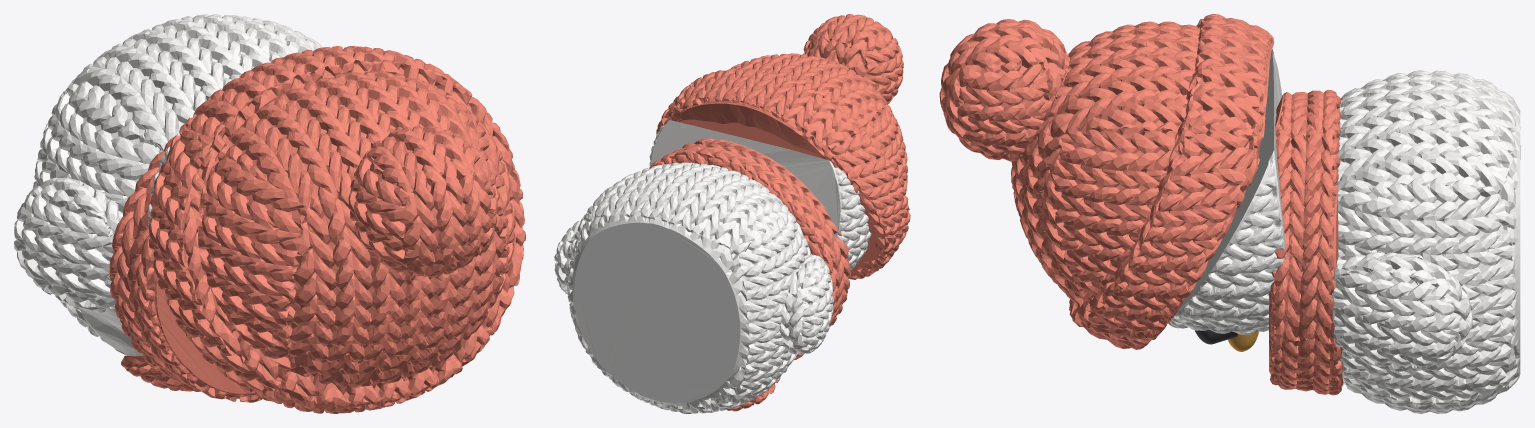
The model's file is snowman.glb.
The picture shows the model from 3 angles, left to right: view 1: azimuth 30°, elevation 25°; view 2: azimuth 150°, elevation 25°; view 3: azimuth 270°, elevation 25°; orthographic projection. The views are drawn at different scales.
Parts seen in each view (by area): view 1: accent_hat, body, accent_scarf; view 2: body, accent_hat, accent_scarf, head; view 3: accent_hat, body, accent_scarf, head.
Part boxes in pixels (x1,y1,x2,y2): accent_hat: (148, 46, 525, 413); body: (14, 14, 322, 355); accent_scarf: (109, 135, 262, 402); body: (554, 162, 833, 413); accent_hat: (655, 14, 910, 279); accent_scarf: (649, 138, 850, 411); head: (649, 120, 871, 269); accent_hat: (939, 14, 1274, 349); body: (1332, 70, 1520, 413); accent_scarf: (1269, 90, 1343, 395); head: (1168, 49, 1287, 334).
Size of the model in its own units: 46.41 by 46.59 by 65.13.
